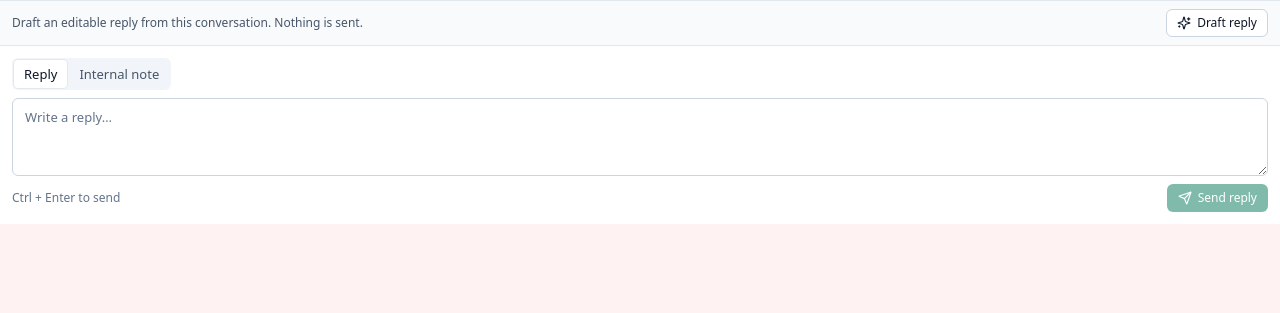
Test: AI reply draft › says when no safe draft is available and leaves the composer alone
The width and height of the screenshot is (1280, 313).
Click the button "Draft reply".
click(1217, 23)  # box [1166,9,1268,37]
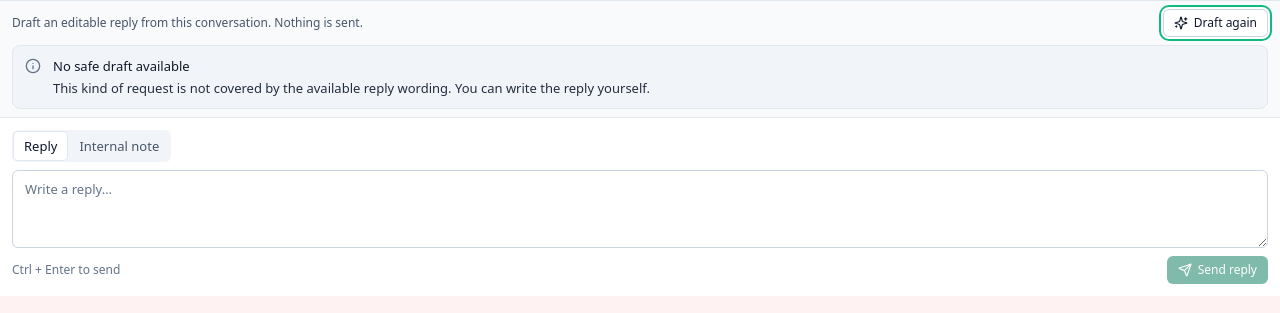
Expected: the text box labelled "reply" is empty, [12,170,1268,248]
Expected: the text "No safe draft available" is shown, [53,57,190,75]
Expected: the text "not covered by the available reply wording" is shown, [53,79,452,97]
